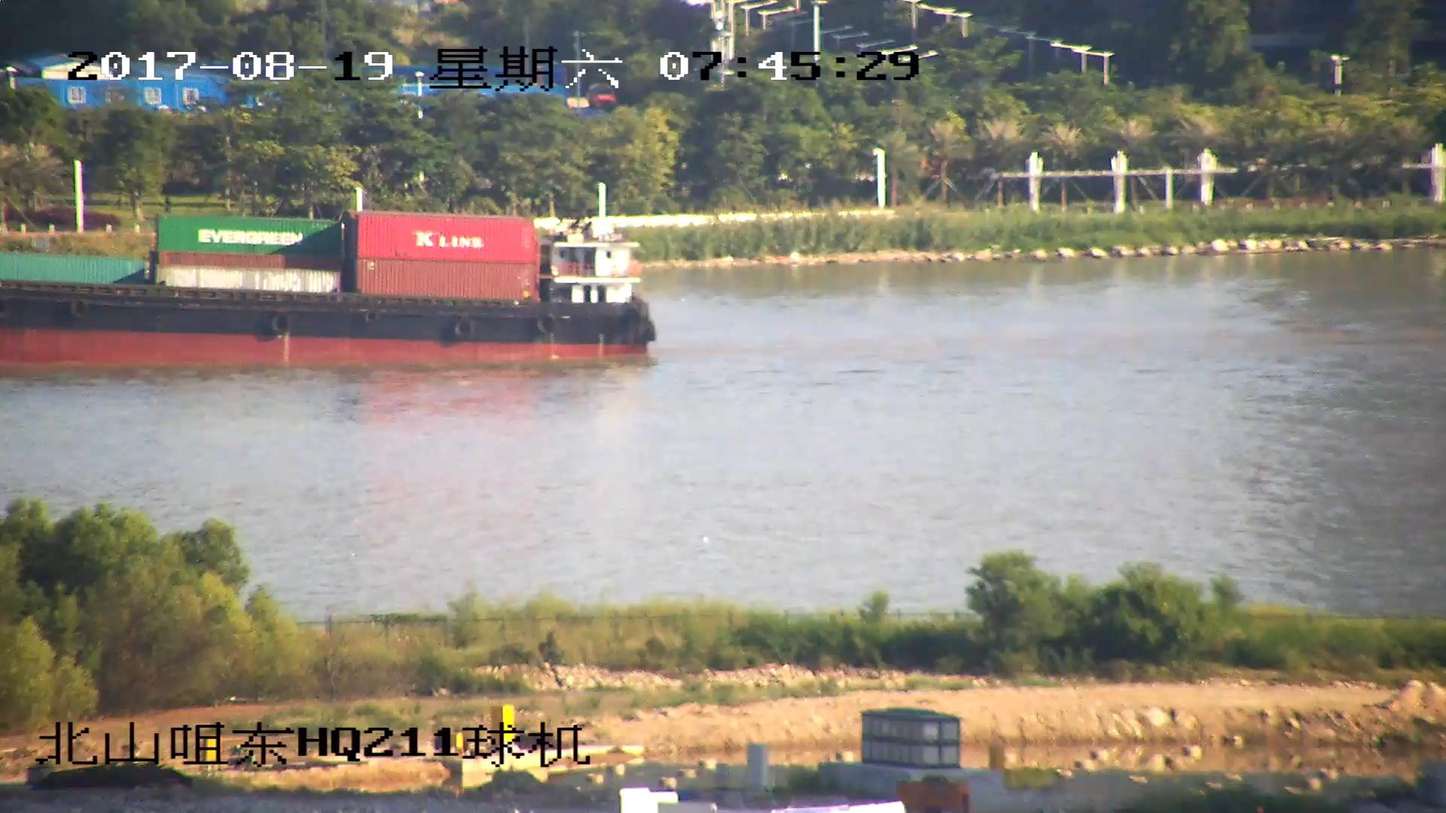container ship: (0, 212, 655, 371)
